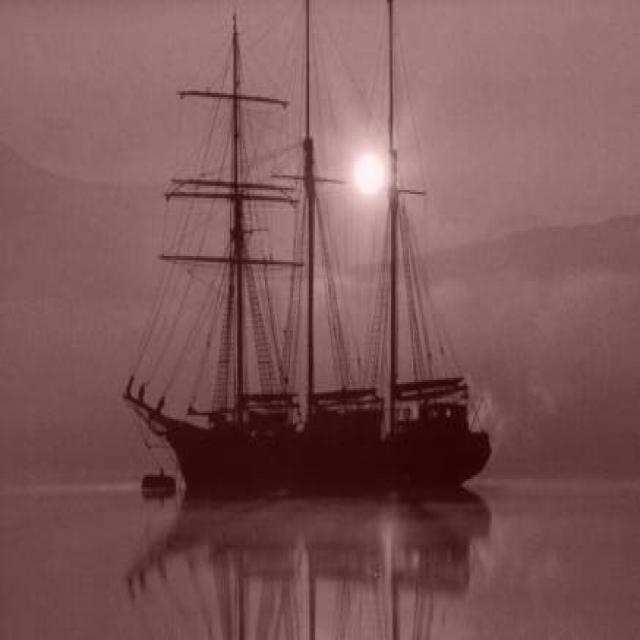Ship: (127, 9, 501, 507)
